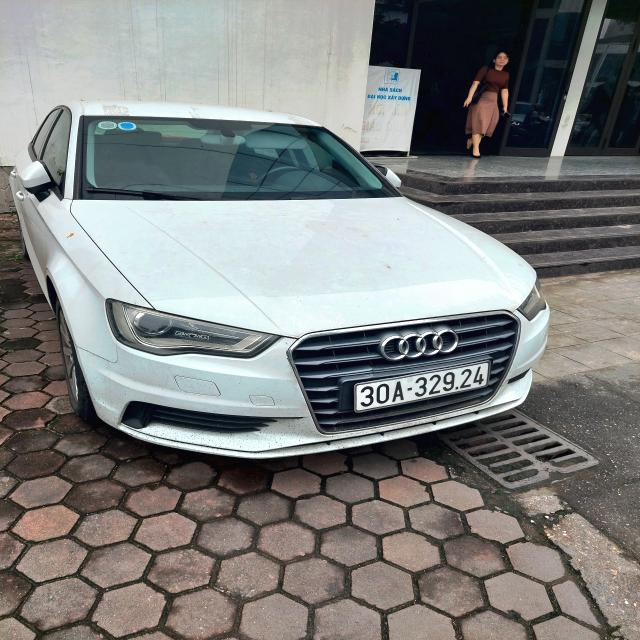license_plate: (357, 361, 489, 412)
